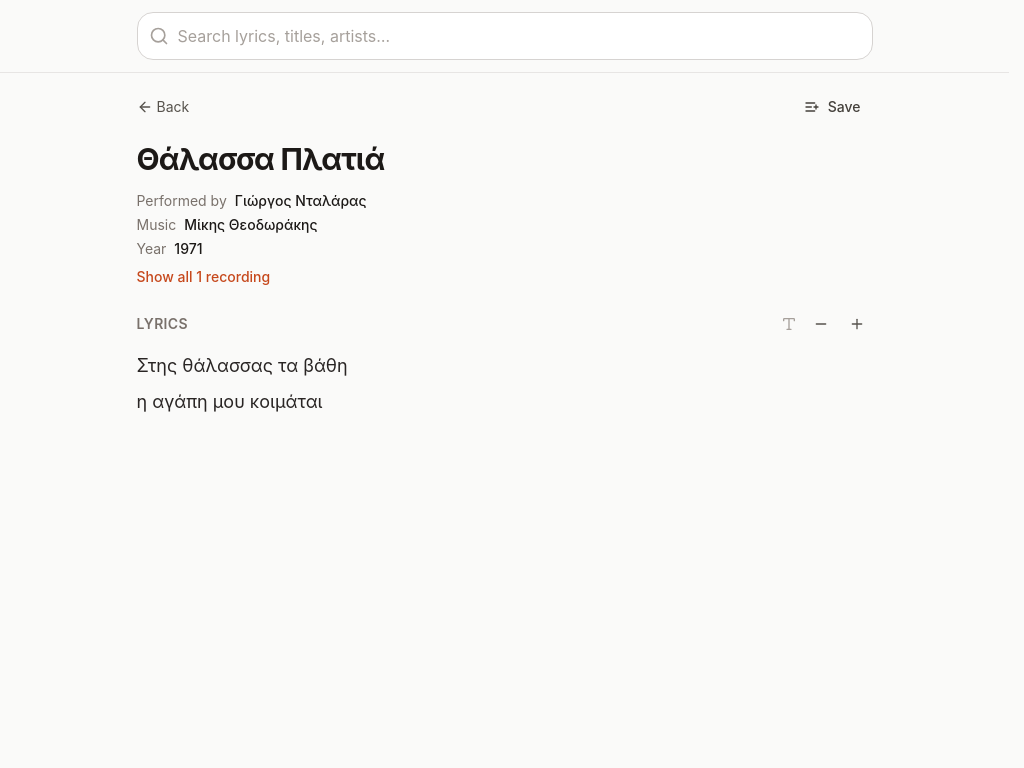
Test case: SongDetailPage recordings › still shows the year beside a named recording
The width and height of the screenshot is (1024, 768).
Click the button "Show all 1 recording" at (203, 276), box [136,266,270,286]
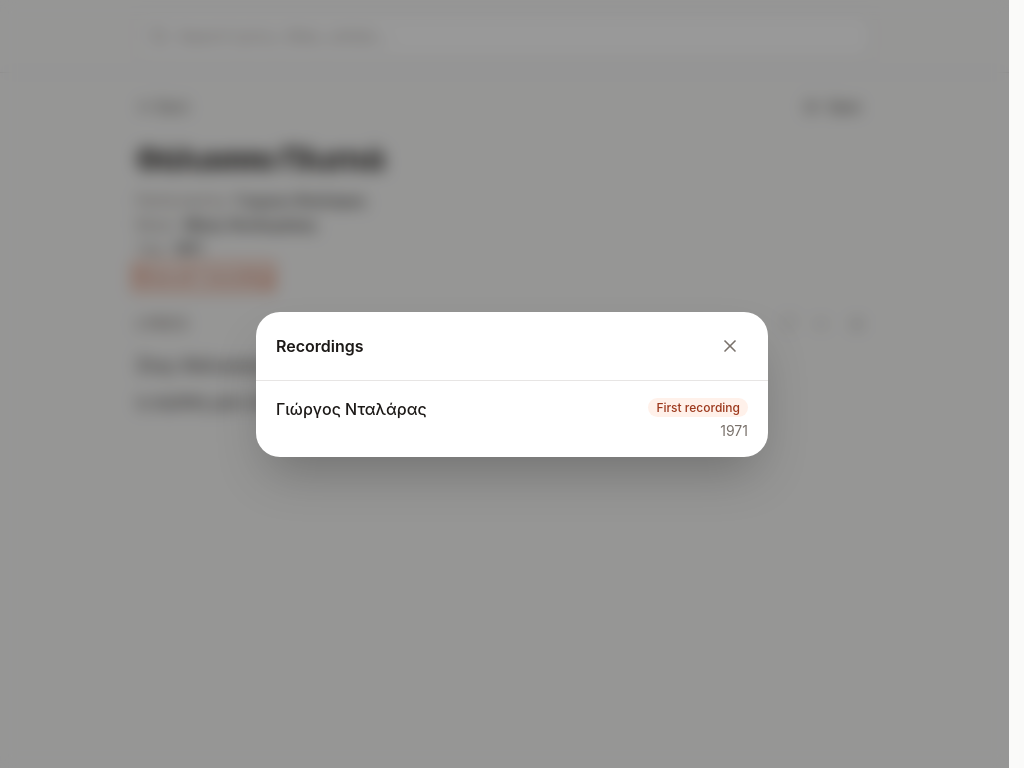
Expected: the link "Γιώργος Νταλάρας" is shown, [276,398,427,418]
Expected: the text "1971" is shown, [720,422,748,438]
